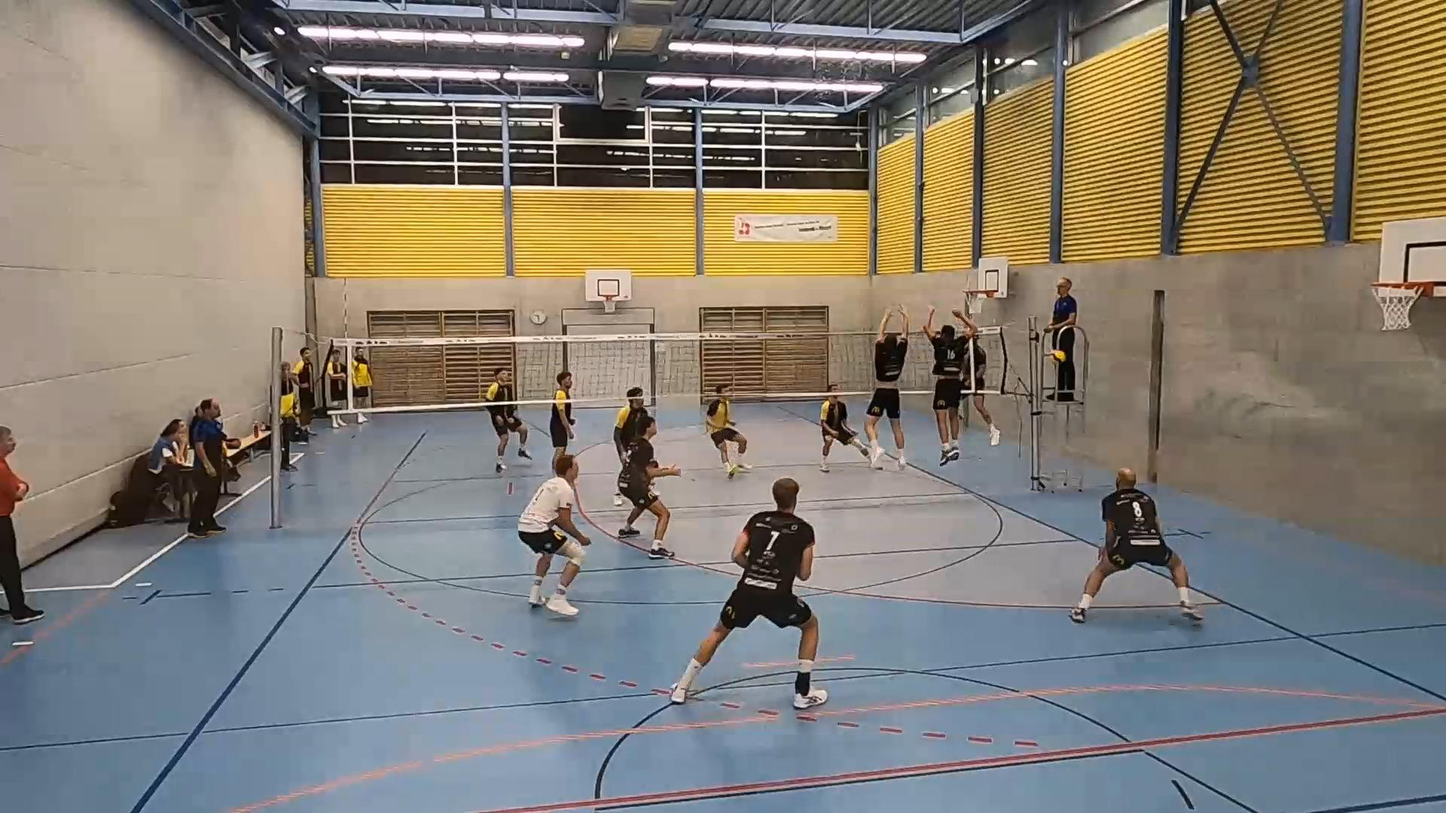Attack: (952, 316, 1008, 455)
Block: (919, 306, 983, 468), (865, 308, 914, 472)
Player: (671, 479, 827, 708), (1070, 469, 1202, 623), (518, 455, 590, 616), (618, 416, 680, 558), (484, 367, 530, 473), (819, 384, 868, 472), (705, 384, 750, 477), (612, 387, 648, 466), (549, 371, 575, 461)
ball: (1045, 348, 1065, 365)
